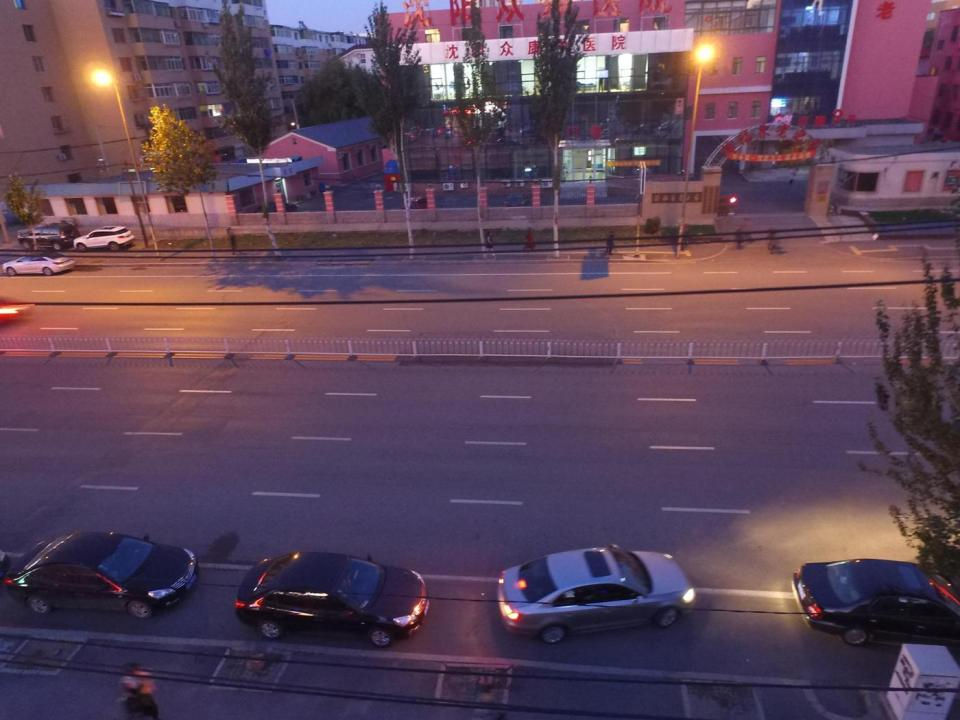car: (496, 545, 697, 643), (234, 550, 432, 648), (2, 530, 197, 626), (790, 557, 960, 646), (16, 217, 80, 251), (2, 252, 71, 278), (72, 227, 136, 253), (246, 198, 303, 220), (397, 195, 436, 216), (499, 190, 532, 212)
